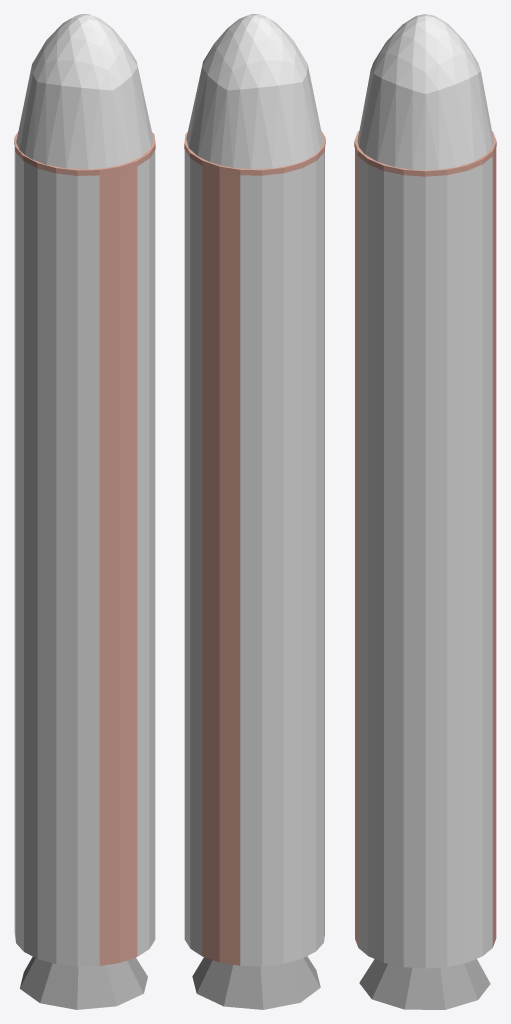
File: roket2.fbx
3 views of the same model, side by side, from view 1: azimuth 30°, elevation 25°; view 2: azimuth 150°, elevation 25°; view 3: azimuth 270°, elevation 25° (orthographic).
Visible parts, largest first — view 1: Cylinder_4; view 2: Cylinder_4; view 3: Cylinder_4.
Part boxes in pixels (bbox=[...]): Cylinder_4: bbox=[14, 14, 155, 1009]; Cylinder_4: bbox=[184, 14, 325, 1009]; Cylinder_4: bbox=[354, 14, 496, 1009].
Bounding box in the file's own units: 226 × 1693 × 226.
